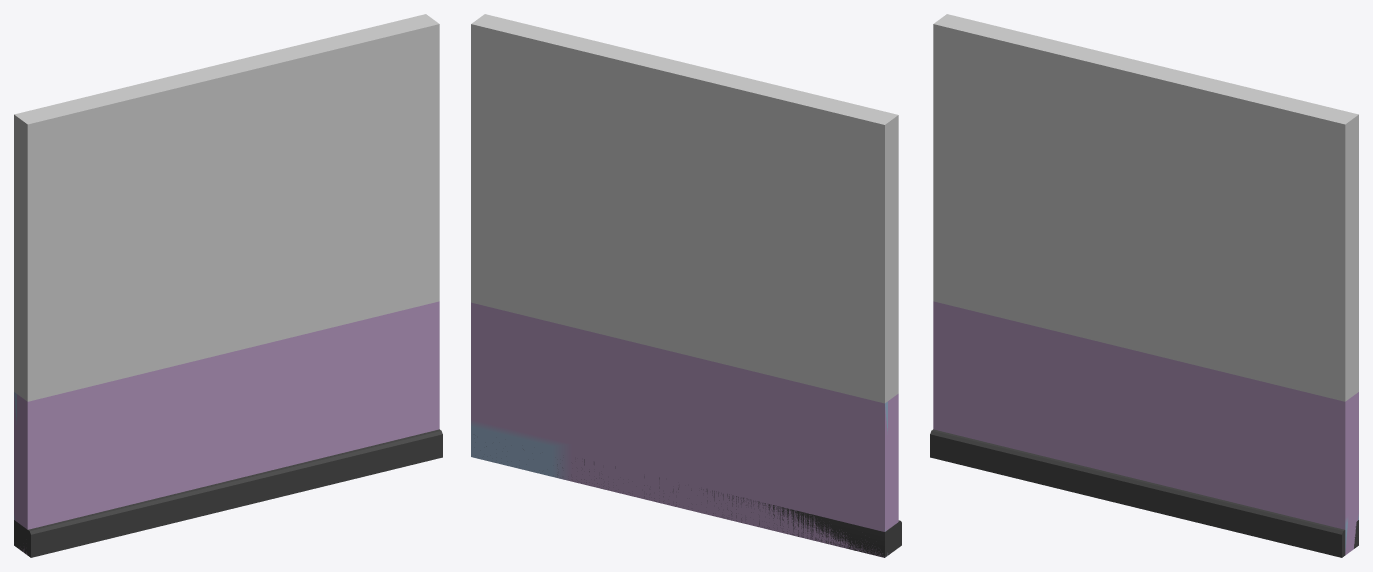
Rendered from Kinder1_ColorWall_Full.fbx.
The picture shows the model from 3 angles, left to right: view 1: azimuth 30°, elevation 25°; view 2: azimuth 150°, elevation 25°; view 3: azimuth 330°, elevation 25°; orthographic projection.
Parts seen in each view (by area): view 1: WallFloor2_01__6_.001, WallFloor2_01__6_.002; view 2: WallFloor2_01__6_.001, WallFloor2_01__6_.002; view 3: WallFloor2_01__6_.001, WallFloor2_01__6_.002.
Boxes of the visible parts, x1,y1,x2,y2 form: WallFloor2_01__6_.001: [14, 14, 439, 554]; WallFloor2_01__6_.002: [14, 429, 442, 557]; WallFloor2_01__6_.001: [471, 14, 898, 557]; WallFloor2_01__6_.002: [486, 446, 901, 557]; WallFloor2_01__6_.001: [933, 14, 1358, 555]; WallFloor2_01__6_.002: [930, 429, 1358, 557].
Size of the model in its own units: 250 by 250 by 17.83.
